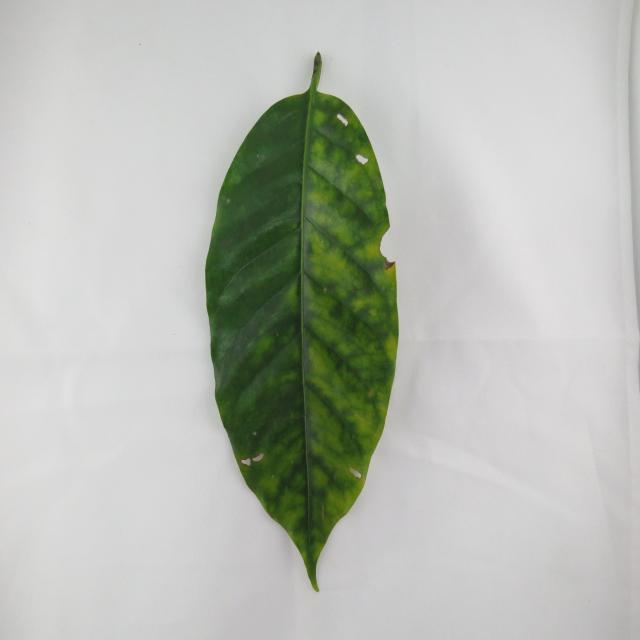DeficienciaNutricional-Magnesio: (206, 53, 399, 590)
